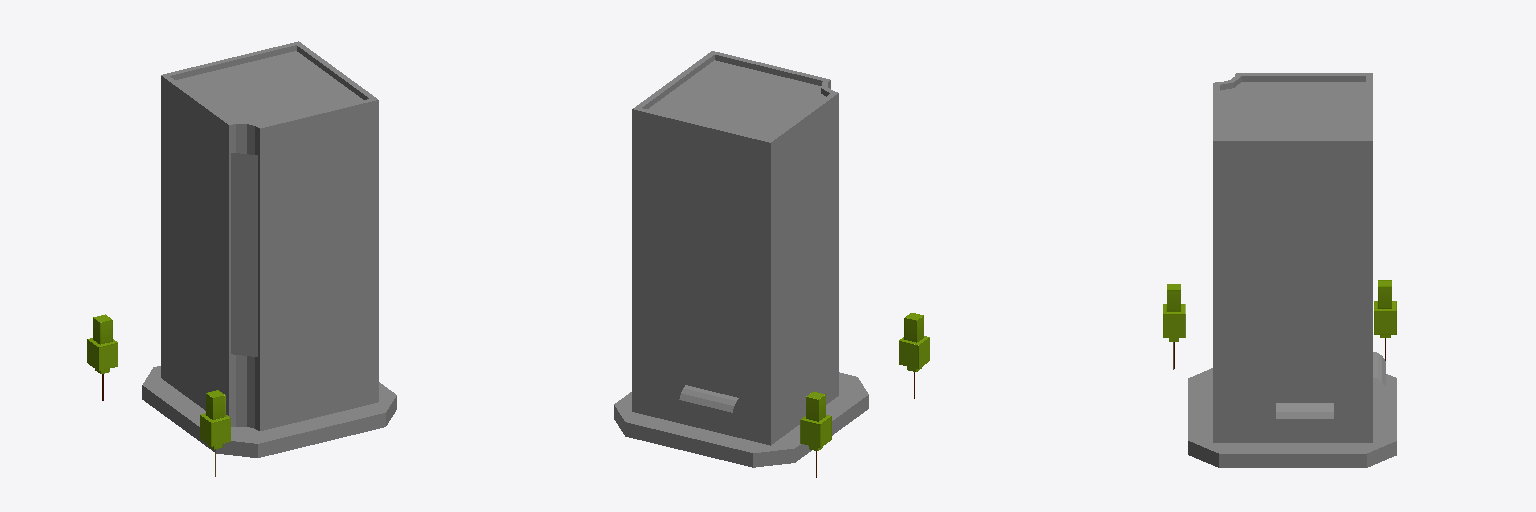
3 renders of one model, left to right at view 1: azimuth 30°, elevation 25°; view 2: azimuth 150°, elevation 25°; view 3: azimuth 270°, elevation 25°, orthographic.
Visible parts, largest first — view 1: living_hotel_living_hotel_Mesh.002, Tree_2_3_61.406_Mesh.9268, Tree_2_3_61.405_Mesh.9267; view 2: living_hotel_living_hotel_Mesh.002, Tree_2_3_61.406_Mesh.9268, Tree_2_3_61.405_Mesh.9267; view 3: living_hotel_living_hotel_Mesh.002, Tree_2_3_61.405_Mesh.9267, Tree_2_3_61.406_Mesh.9268.
Boxes of the visible parts, x1,y1,x2,y2 form: living_hotel_living_hotel_Mesh.002: [142, 41, 396, 457]; Tree_2_3_61.406_Mesh.9268: [87, 314, 117, 400]; Tree_2_3_61.405_Mesh.9267: [200, 390, 230, 476]; living_hotel_living_hotel_Mesh.002: [614, 51, 868, 467]; Tree_2_3_61.406_Mesh.9268: [800, 391, 831, 477]; Tree_2_3_61.405_Mesh.9267: [899, 313, 929, 398]; living_hotel_living_hotel_Mesh.002: [1188, 73, 1396, 467]; Tree_2_3_61.405_Mesh.9267: [1163, 284, 1185, 369]; Tree_2_3_61.406_Mesh.9268: [1374, 280, 1396, 360].
Size of the model in its own units: 1.76 by 2.42 by 1.62.
2 materials, 1 textured.